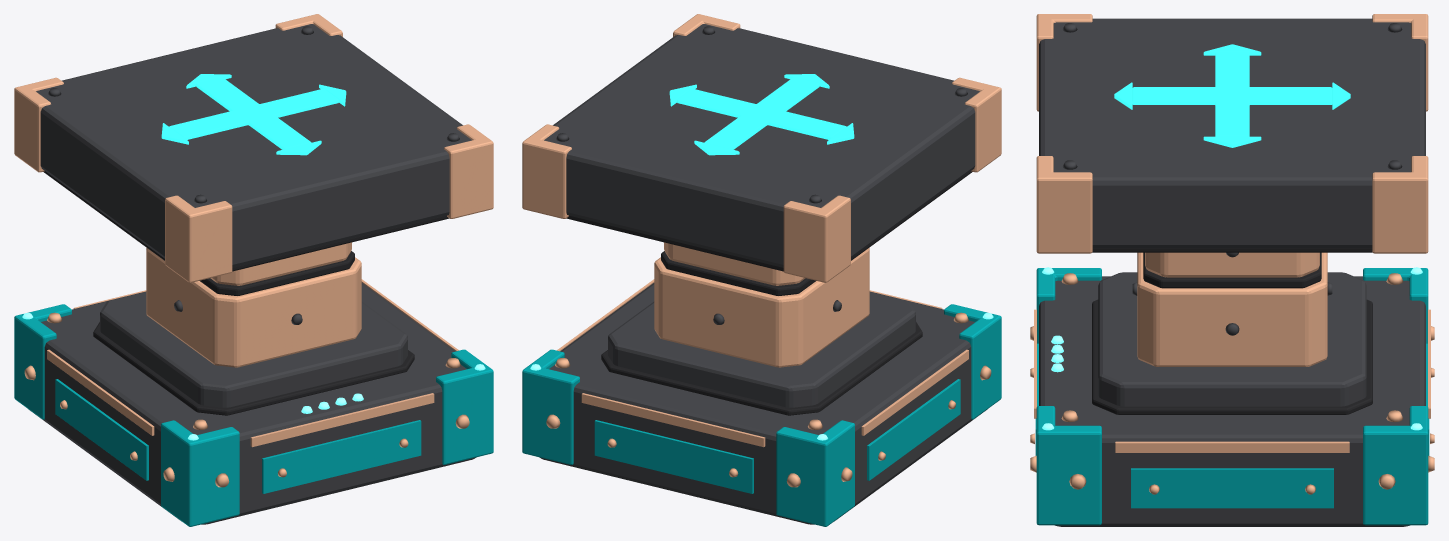
Rendered from piston_4.glb.
3 views of the same model, side by side, from view 1: azimuth 30°, elevation 25°; view 2: azimuth 150°, elevation 25°; view 3: azimuth 270°, elevation 25° (orthographic). The views are drawn at different scales.
Visible parts, largest first — view 1: Base, head; view 2: Base, head; view 3: Base, head.
Boxes of the visible parts, box(x1,y1,x2,y2) form: Base: box(14, 248, 493, 526); head: box(14, 14, 493, 285); Base: box(522, 248, 1001, 526); head: box(522, 14, 1001, 285); Base: box(1030, 252, 1434, 526); head: box(1036, 14, 1428, 277).
Size of the model in its own units: 0.259 by 0.2505 by 0.259.
